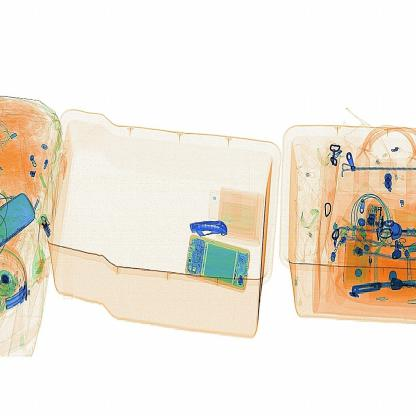knife: (183, 217, 237, 247)
